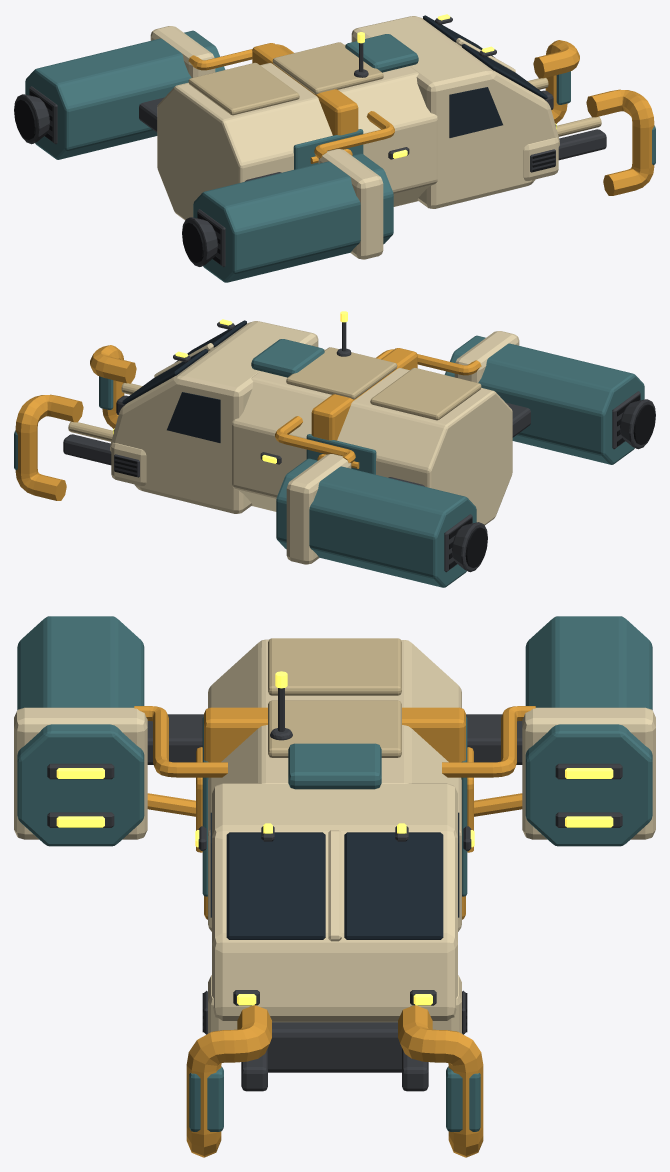
The model's file is tug.glb.
The picture shows the model from 3 angles, top to bottom: view 1: azimuth 30°, elevation 25°; view 2: azimuth 150°, elevation 25°; view 3: azimuth 270°, elevation 25°; orthographic projection. The views are drawn at different scales.
Visible parts, largest first — view 1: hull body, drive body; view 2: hull body, drive body; view 3: hull body, drive body.
Boxes of the visible parts, x1=… form: hull body: x1=157, y1=14, x2=655, y2=219; drive body: x1=14, y1=26, x2=393, y2=282; hull body: x1=14, y1=319, x2=512, y2=525; drive body: x1=276, y1=331, x2=655, y2=587; hull body: x1=134, y1=638, x2=535, y2=1157; drive body: x1=14, y1=616, x2=655, y2=846.
Size of the model in its own units: 6.55 by 2.47 by 4.8.
